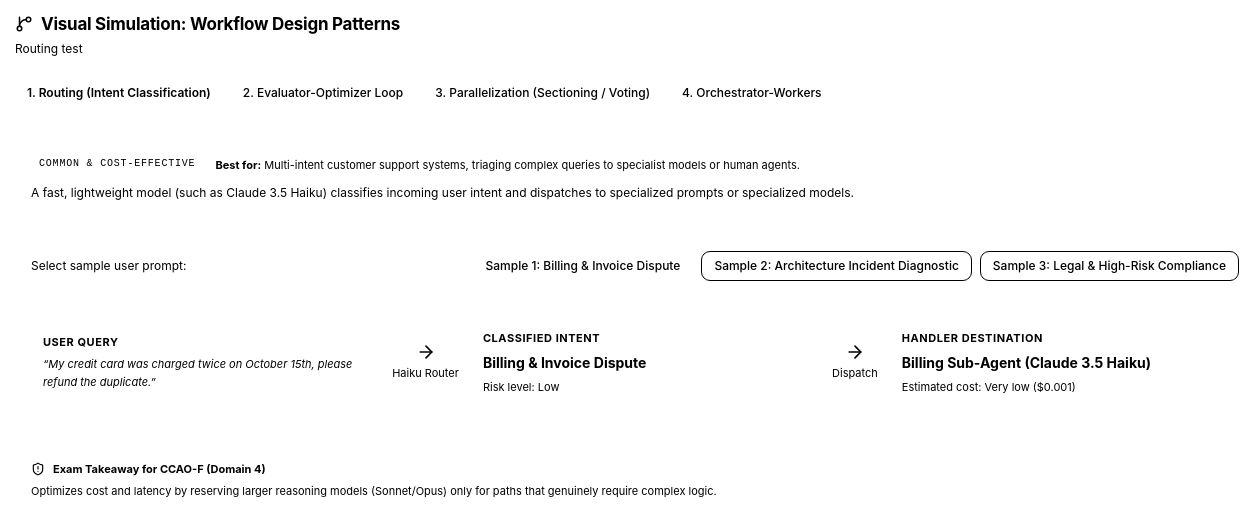
Scenario: WorkflowPatternsSimulator › switches routing queries and renders corresponding targets
The width and height of the screenshot is (1256, 515).
Click the button "Sample 2: Architecture Incident Diagnostic": (837, 266) left=701, top=251, right=972, bottom=281
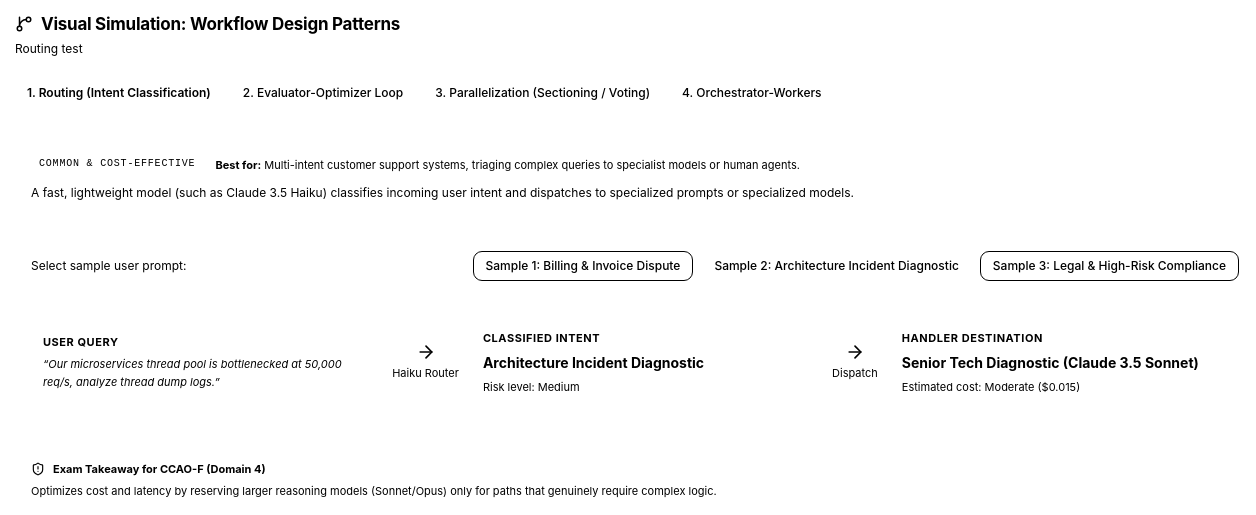
Expected: the text "Senior Tech Diagnostic (Claude 3.5 Sonnet)" is shown, left=902, top=351, right=1227, bottom=374
Expected: the text "Architecture Incident Diagnostic" is shown, left=483, top=354, right=704, bottom=371
Click the button "Sample 3: Legal & High-Risk Compliance": (1109, 266) left=980, top=251, right=1239, bottom=281
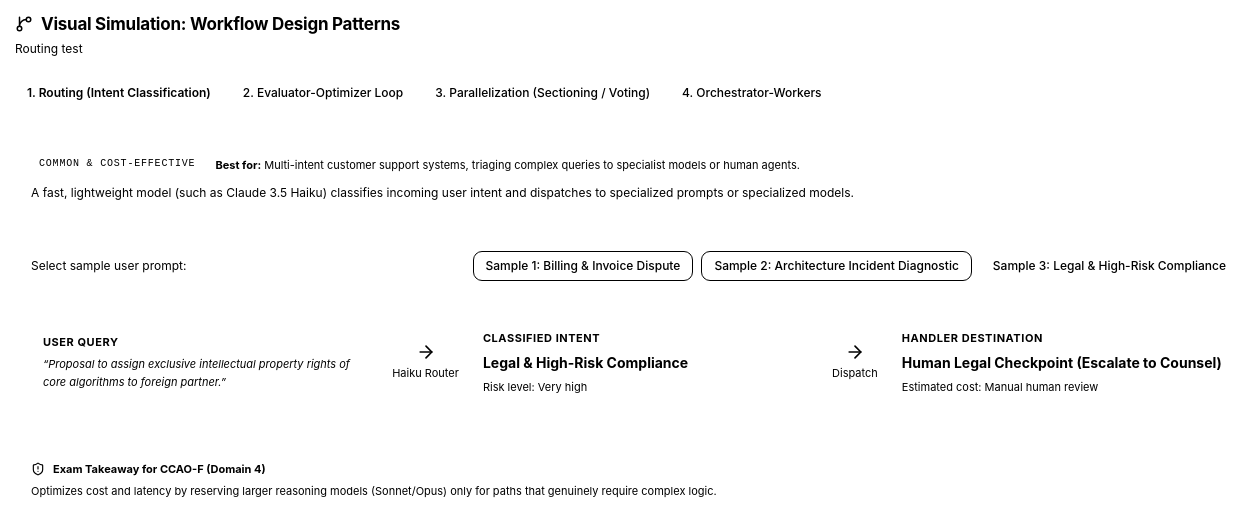
Expected: the text "Human Legal Checkpoint (Escalate to Counsel)" is shown, left=902, top=351, right=1227, bottom=374
Expected: the text "Legal & High-Risk Compliance" is shown, left=483, top=354, right=688, bottom=371
